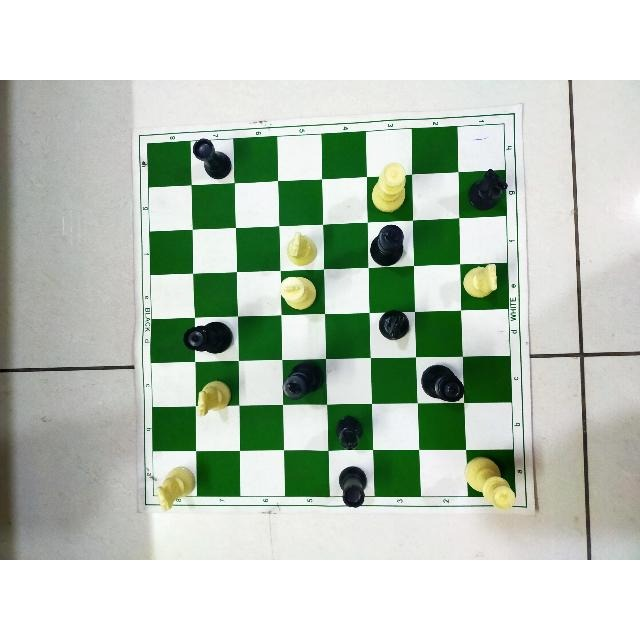black-bishop: (335, 415, 365, 450)
black-king: (281, 359, 325, 401), (369, 223, 404, 266)
black-knight: (467, 169, 508, 211), (377, 308, 410, 341)
black-queen: (420, 364, 465, 404), (183, 321, 233, 354)
black-rook: (192, 138, 232, 180), (338, 465, 367, 509)
white-king: (279, 275, 318, 311)
white-knight: (155, 466, 195, 512), (197, 378, 232, 417), (462, 264, 499, 298), (286, 230, 318, 268)
white-queen: (465, 456, 517, 510), (370, 160, 407, 215)
